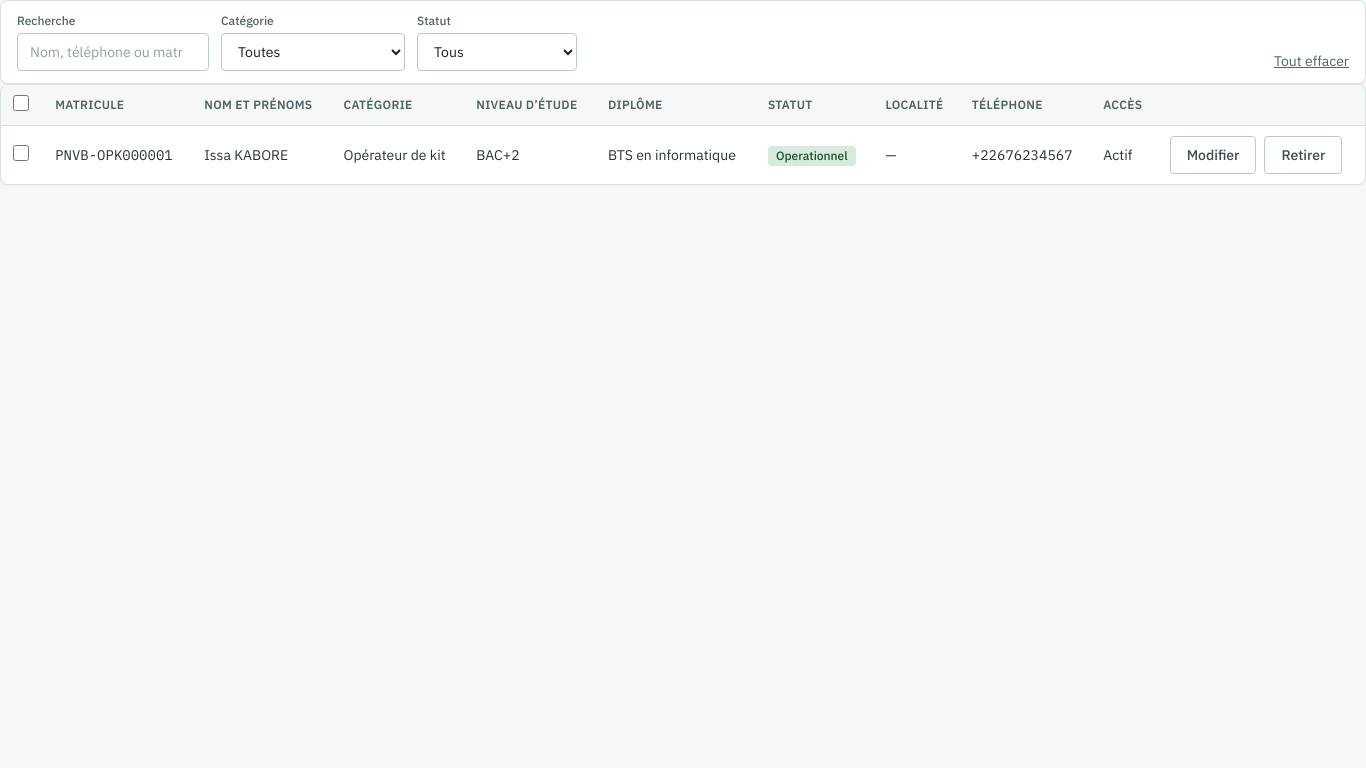
Test: Registre des volontaires › corrige une fiche sans jamais proposer la catégorie ni le matricule
Expected: the text "BAC+2" is shown, [464,126,596,184]
Step 1. Click the button "Modifier" → (1213, 155), box [1170,136,1256,174]
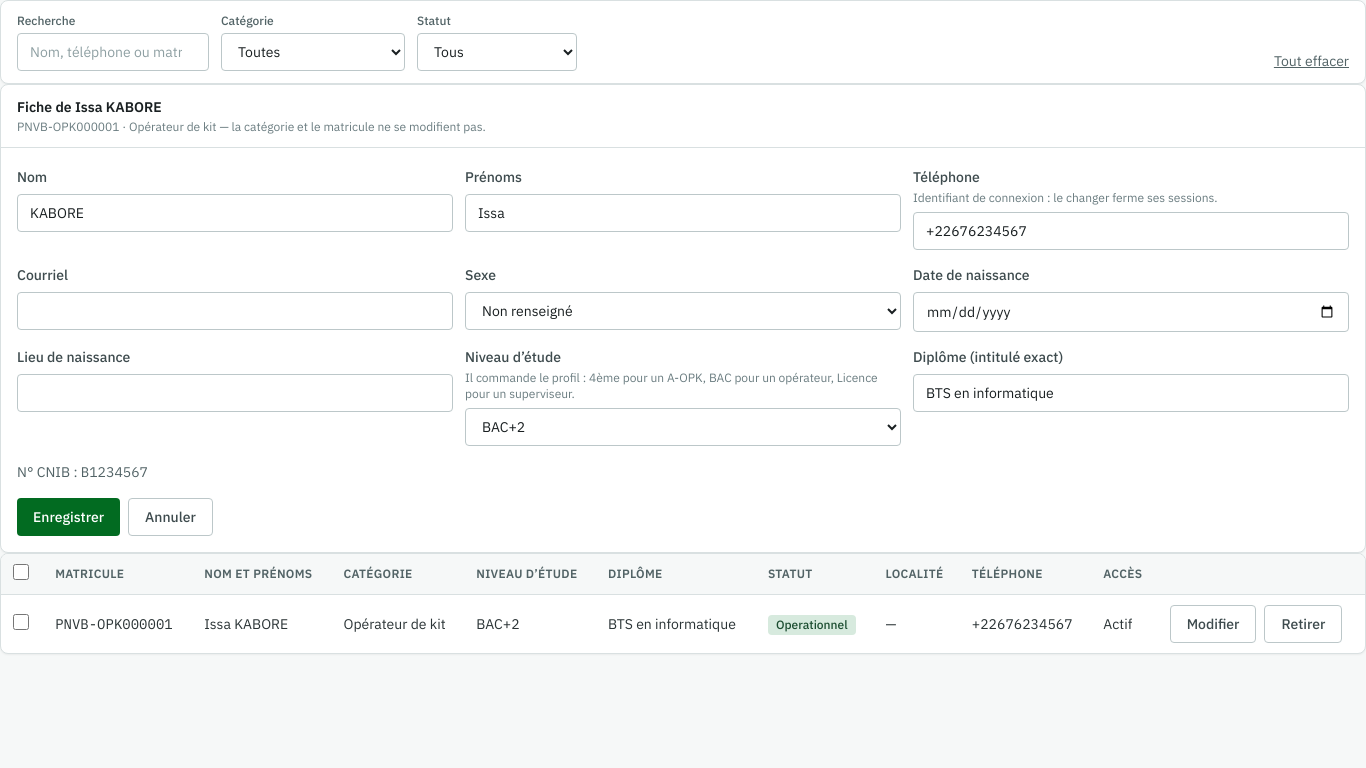
Result: the text "B1234567" is shown at [81,463,148,481]
Step 2. Select "Licence (BAC+3)" in the dropdown labelled "Niveau d’étude" → (683, 427), box [465,408,901,446]
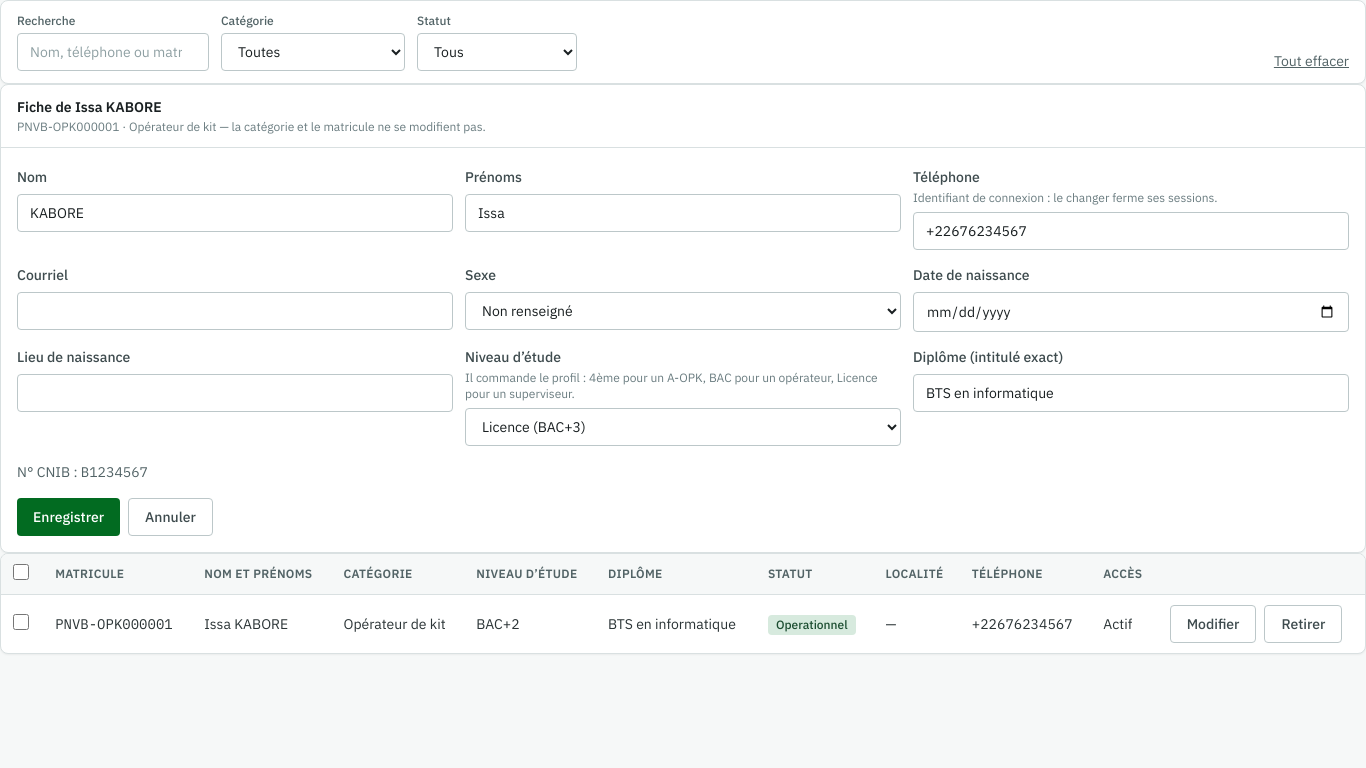
Step 3. Replace the text in the field labelled "Diplôme (intitulé exact)" with "Licence en gestion" → (1131, 393), box [913,374,1349,412]
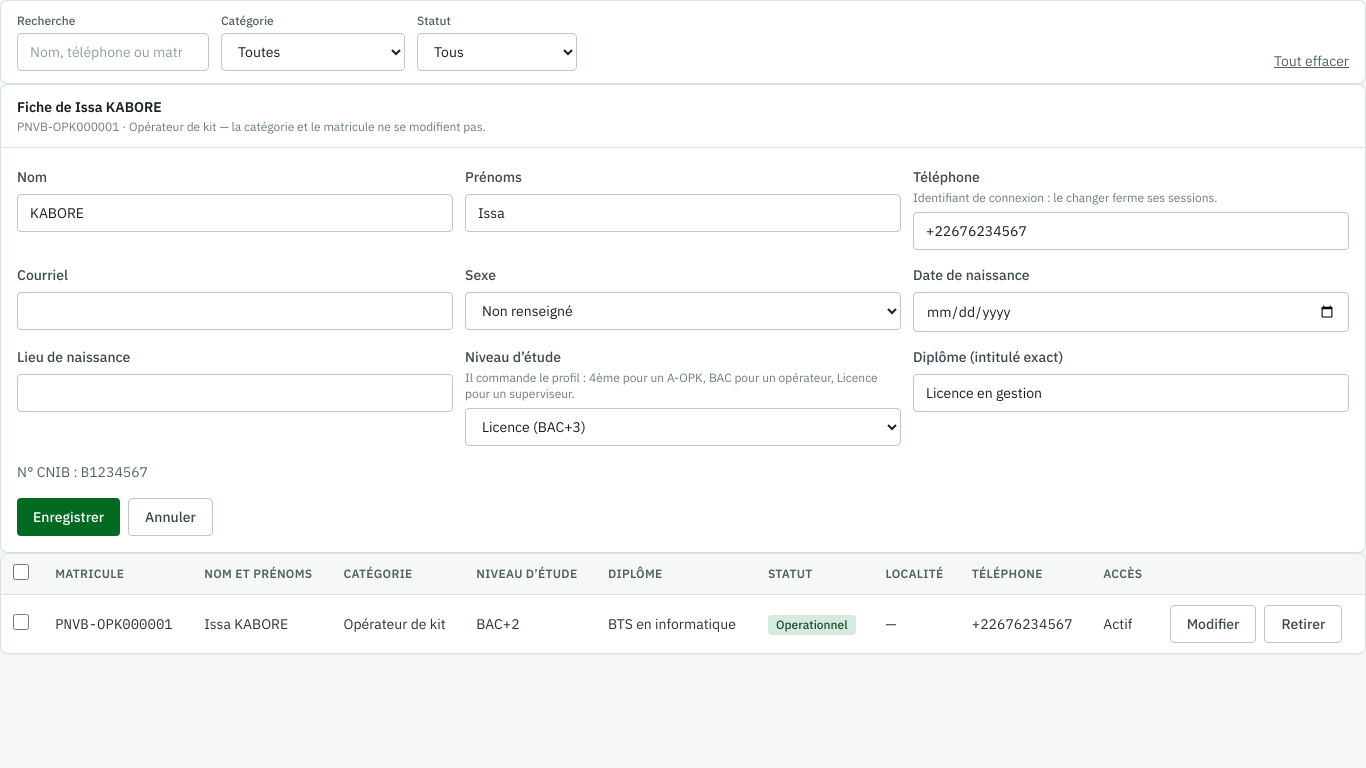
Step 4. Click the button "Enregistrer" → (69, 517), box [17,498,120,536]
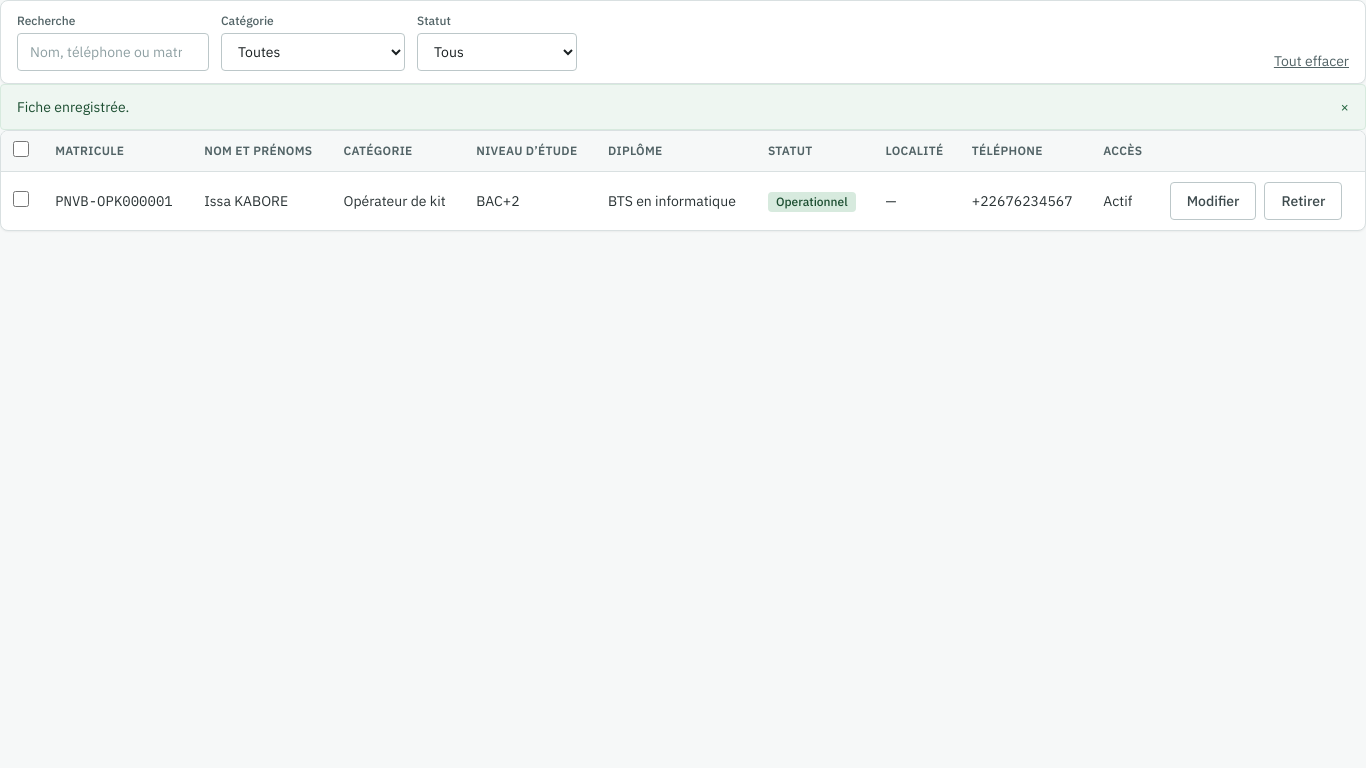
Result: the text "Fiche enregistrée." is shown at [17,97,129,117]
